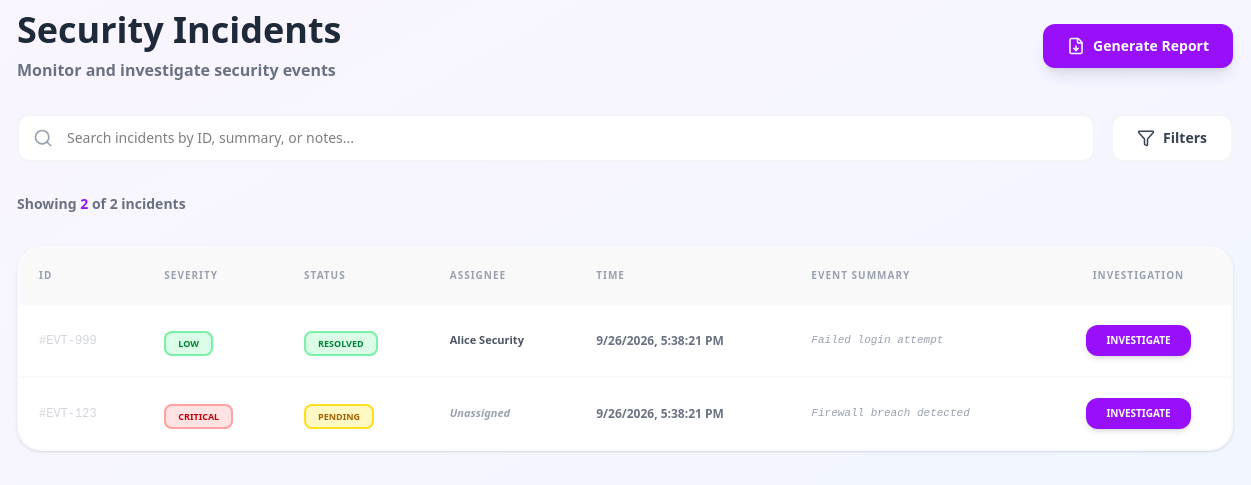
it: Incidents Dashboard - Full Component Test Suite › [UI-04] Displays the empty state UI when a search finds no results
Type "GIBBERISH-SEARCH-TERM" into the field with placeholder "Search incidents by ID, summary, or notes..." at (556, 138), box left=17, top=114, right=1095, bottom=162
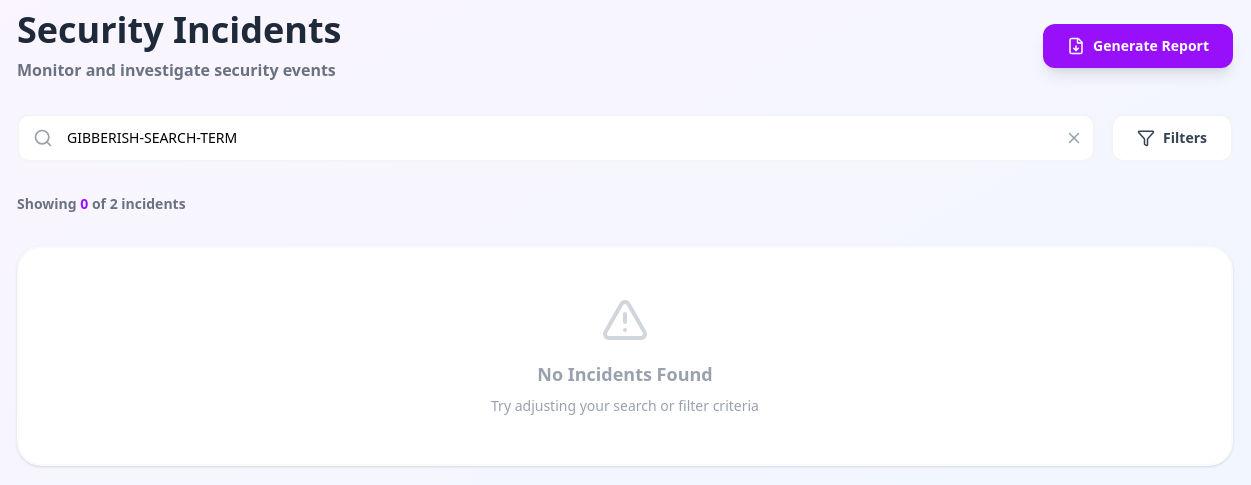
Check: the heading "No Incidents Found" is shown, box left=537, top=362, right=713, bottom=386
